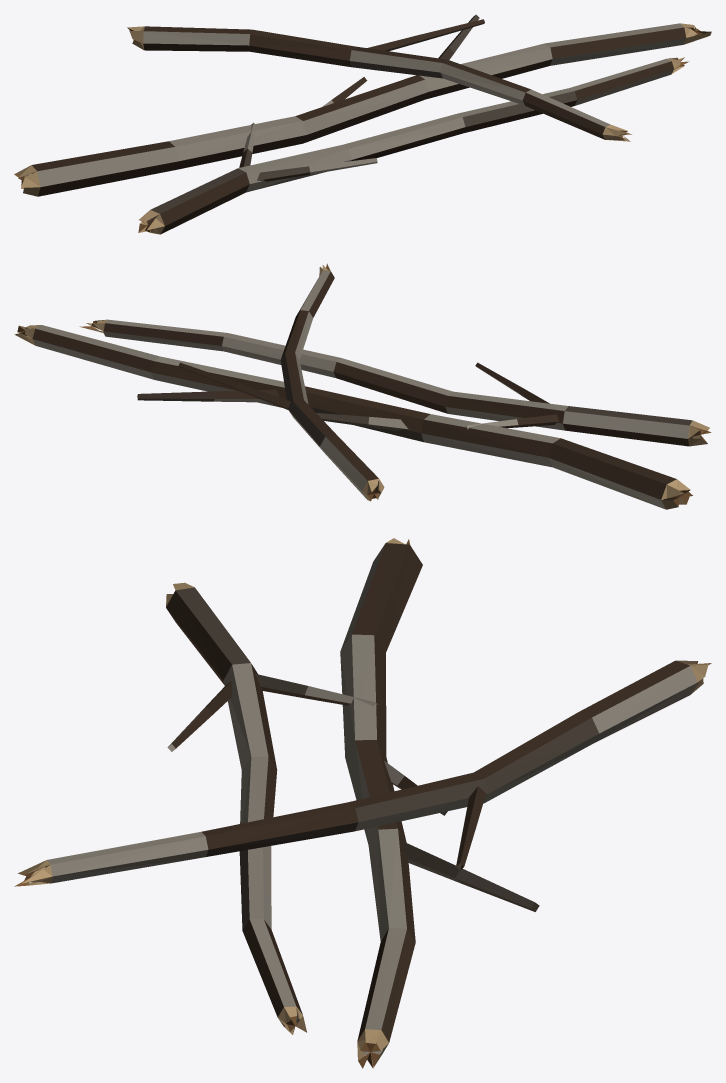
The model's file is sticks.glb.
The picture shows the model from 3 angles, top to bottom: view 1: azimuth 30°, elevation 25°; view 2: azimuth 150°, elevation 25°; view 3: azimuth 270°, elevation 25°; orthographic projection. The views are drawn at different scales.
Parts seen in each view (by area): view 1: sticks; view 2: sticks; view 3: sticks.
Part boxes in pixels (left/top/right/bottom): sticks: left=14, top=14, right=711, bottom=234; sticks: left=14, top=263, right=711, bottom=509; sticks: left=14, top=538, right=711, bottom=1068.
Size of the model in its own units: 0.7718 by 0.0559 by 0.45.
